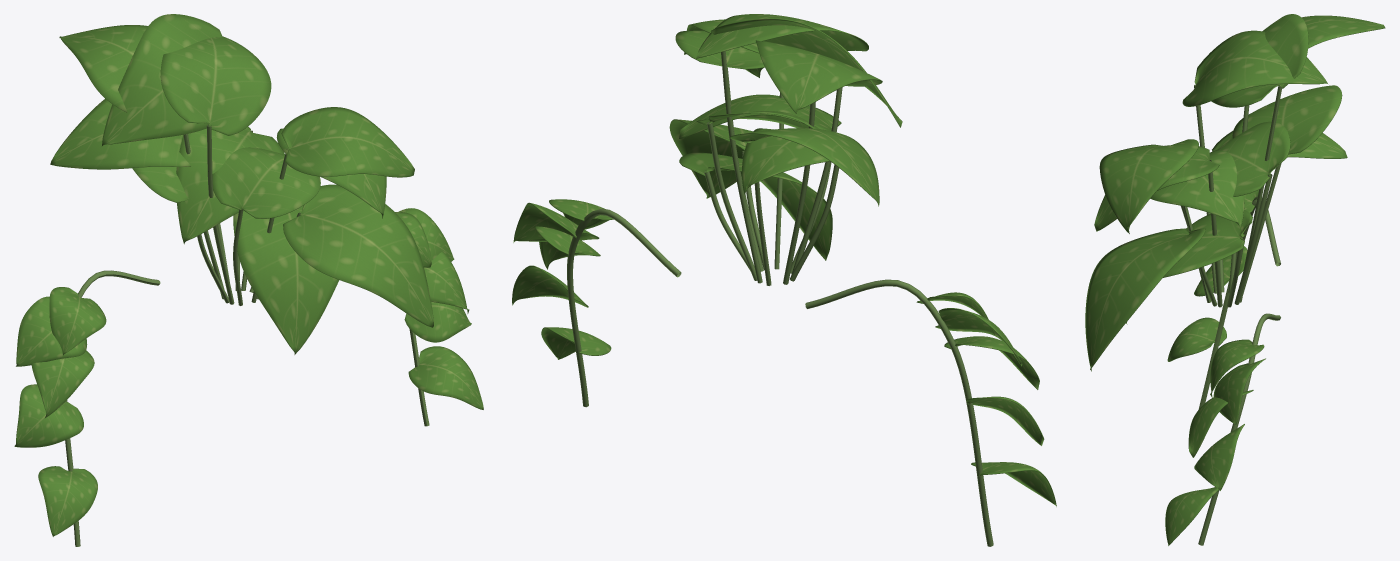
The model's file is pothos-stage-6-v06.glb.
3 views of the same model, side by side, from view 1: azimuth 30°, elevation 25°; view 2: azimuth 150°, elevation 25°; view 3: azimuth 270°, elevation 25° (orthographic). The views are drawn at different scales.
Visible parts, largest first — view 1: V06 pothos-stage-6 Leaf_8, V06 pothos-stage-6 Leaf_1, V06 pothos-stage-6 Leaf_5, V06 pothos-stage-6 Leaf_2, V06 pothos-stage-6 Leaf_3, V06 pothos-stage-6 Leaf_6, V06 pothos-stage-6 Leaf_10, V06 pothos-stage-6 Leaf_7, V06 pothos-stage-6 Leaf_4, V06 pothos-stage-6 Leaf_vine_0_4, V06 pothos-stage-6 Leaf_vine_0_3, V06 pothos-stage-6 Leaf_vine_1_4 (+11 smaller); view 2: V06 pothos-stage-6 Leaf_4, V06 pothos-stage-6 Leaf_7, V06 pothos-stage-6 Leaf_5, V06 pothos-stage-6 Leaf_1, V06 pothos-stage-6 Vine_0, V06 pothos-stage-6 Leaf_9, V06 pothos-stage-6 Leaf_2, V06 pothos-stage-6 Leaf_6, V06 pothos-stage-6 Leaf_8, V06 pothos-stage-6 Vine_1, V06 pothos-stage-6 Leaf_0, V06 pothos-stage-6 Leaf_vine_1_1 (+14 smaller); view 3: V06 pothos-stage-6 Leaf_8, V06 pothos-stage-6 Leaf_1, V06 pothos-stage-6 Leaf_3, V06 pothos-stage-6 Leaf_7, V06 pothos-stage-6 Leaf_6, V06 pothos-stage-6 Leaf_10, V06 pothos-stage-6 Leaf_2, V06 pothos-stage-6 Leaf_5, V06 pothos-stage-6 Leaf_4, V06 pothos-stage-6 Leaf_vine_1_3, V06 pothos-stage-6 Leaf_vine_1_4, V06 pothos-stage-6 Leaf_0 (+12 smaller).
Boxes of the visible parts, x1,y1,x2,y2 form: V06 pothos-stage-6 Leaf_8: [283, 184, 433, 327]; V06 pothos-stage-6 Leaf_1: [160, 36, 271, 135]; V06 pothos-stage-6 Leaf_5: [233, 206, 339, 354]; V06 pothos-stage-6 Leaf_2: [101, 14, 222, 146]; V06 pothos-stage-6 Leaf_3: [281, 107, 414, 177]; V06 pothos-stage-6 Leaf_6: [212, 147, 320, 218]; V06 pothos-stage-6 Leaf_10: [176, 126, 284, 244]; V06 pothos-stage-6 Leaf_7: [50, 98, 190, 169]; V06 pothos-stage-6 Leaf_4: [59, 25, 147, 112]; V06 pothos-stage-6 Leaf_vine_0_4: [38, 466, 97, 536]; V06 pothos-stage-6 Leaf_vine_0_3: [14, 384, 83, 447]; V06 pothos-stage-6 Leaf_vine_1_4: [408, 346, 483, 409]; V06 pothos-stage-6 Leaf_4: [755, 40, 882, 113]; V06 pothos-stage-6 Leaf_7: [730, 128, 879, 206]; V06 pothos-stage-6 Leaf_5: [679, 152, 832, 260]; V06 pothos-stage-6 Leaf_1: [696, 14, 868, 58]; V06 pothos-stage-6 Vine_0: [805, 279, 993, 546]; V06 pothos-stage-6 Leaf_9: [742, 128, 829, 195]; V06 pothos-stage-6 Leaf_2: [710, 18, 902, 127]; V06 pothos-stage-6 Leaf_6: [679, 94, 841, 139]; V06 pothos-stage-6 Leaf_8: [669, 119, 752, 198]; V06 pothos-stage-6 Vine_1: [567, 208, 681, 407]; V06 pothos-stage-6 Leaf_0: [675, 30, 764, 77]; V06 pothos-stage-6 Leaf_vine_1_1: [513, 202, 599, 242]; V06 pothos-stage-6 Leaf_8: [1085, 228, 1205, 371]; V06 pothos-stage-6 Leaf_1: [1182, 30, 1327, 106]; V06 pothos-stage-6 Leaf_3: [1099, 139, 1198, 233]; V06 pothos-stage-6 Leaf_7: [1232, 85, 1342, 154]; V06 pothos-stage-6 Leaf_6: [1150, 150, 1244, 229]; V06 pothos-stage-6 Leaf_10: [1216, 121, 1290, 196]; V06 pothos-stage-6 Leaf_2: [1211, 14, 1308, 107]; V06 pothos-stage-6 Leaf_5: [1126, 210, 1252, 324]; V06 pothos-stage-6 Leaf_4: [1301, 15, 1385, 48]; V06 pothos-stage-6 Leaf_vine_1_3: [1194, 424, 1244, 490]; V06 pothos-stage-6 Leaf_vine_1_4: [1165, 487, 1218, 545]; V06 pothos-stage-6 Leaf_0: [1094, 145, 1219, 231].
Bounding box in the file's own units: 2.9 × 2.8 × 1.67.
Materials: 2 (1 with a texture image).
